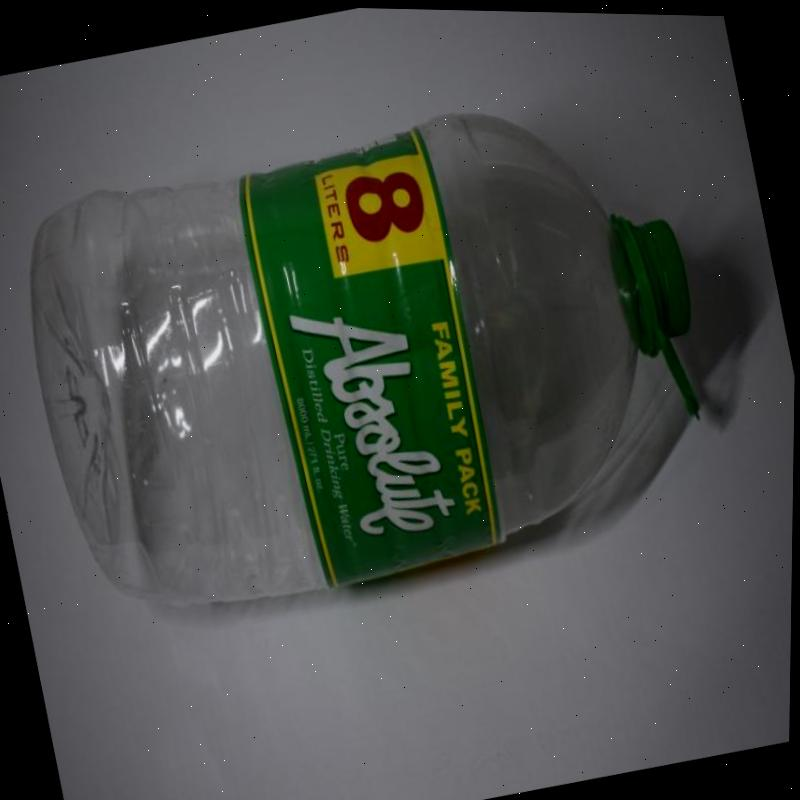botella: (2, 60, 737, 638)
